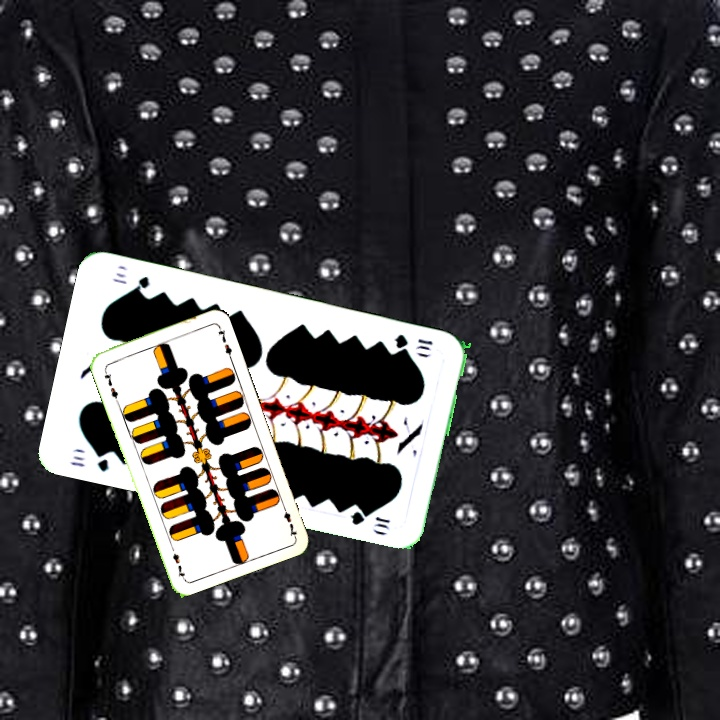E7: (278, 500, 300, 539), (100, 364, 121, 404)
G10: (66, 447, 111, 475), (391, 330, 435, 354)
